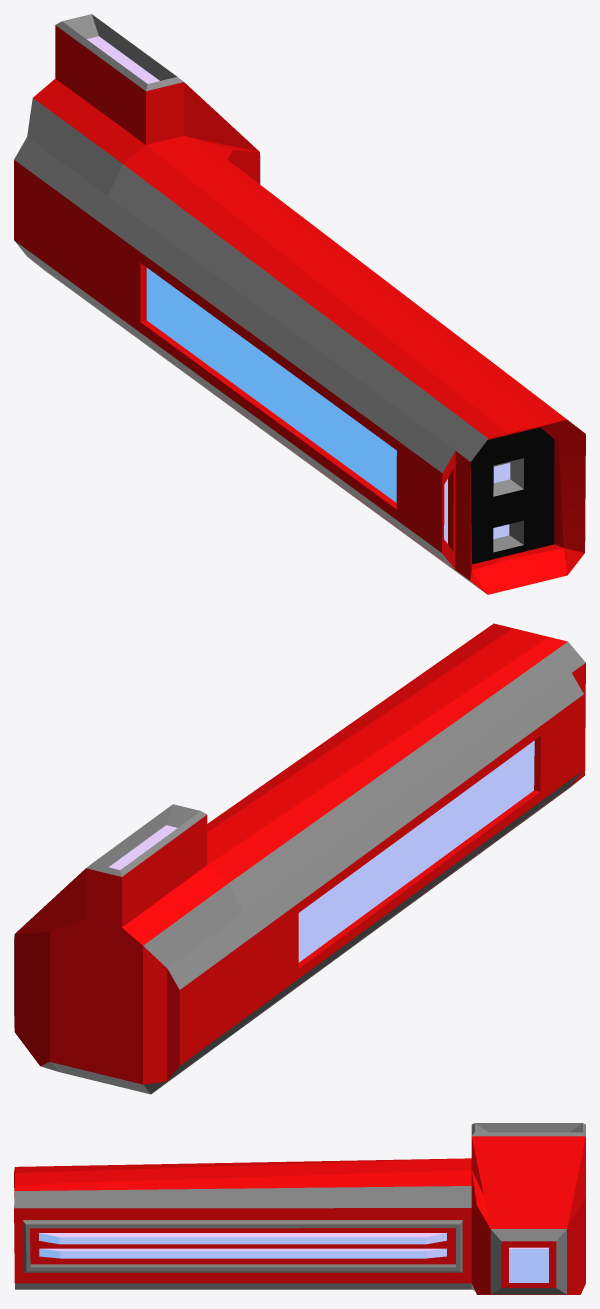
3 renders of one model, top to bottom at view 1: azimuth 30°, elevation 25°; view 2: azimuth 150°, elevation 25°; view 3: azimuth 270°, elevation 25°, orthographic. The views are drawn at different scales.
Parts seen in each view (by area): view 1: Side Body; view 2: Side Body; view 3: Side Body.
Boxes of the visible parts, x1=… form: Side Body: x1=14, y1=14, x2=585, y2=594; Side Body: x1=14, y1=623, x2=585, y2=1094; Side Body: x1=14, y1=1123, x2=585, y2=1294.
Size of the model in its own units: 7.62 by 8.92 by 30.89.
